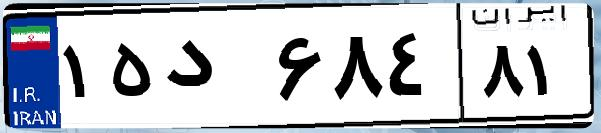1: (57, 26, 110, 100), (525, 38, 570, 115)
4: (385, 28, 445, 110)
5: (110, 28, 158, 98)
6: (270, 28, 330, 110)
8: (330, 28, 385, 110), (475, 38, 525, 113)
د: (158, 20, 270, 120)
